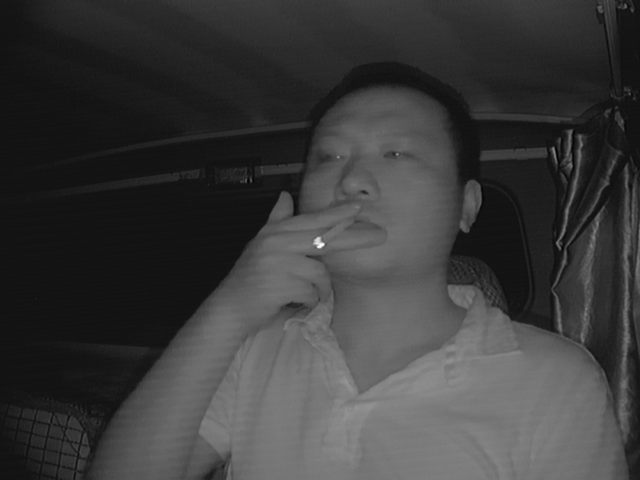hand: (271, 202, 381, 311)
